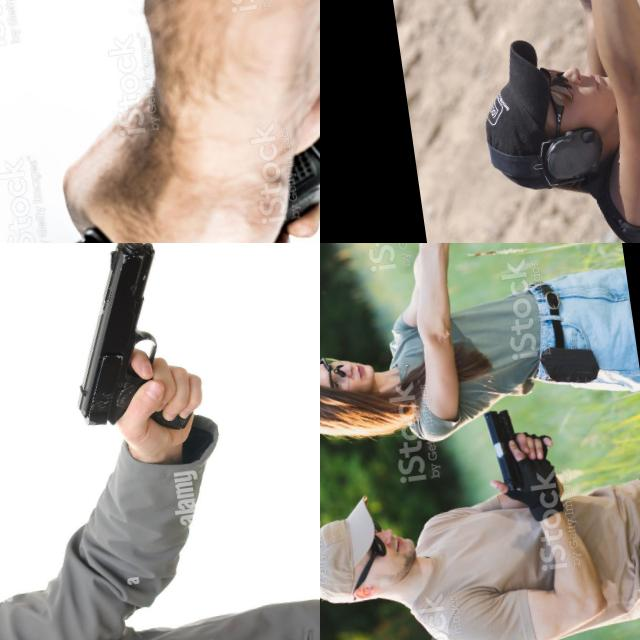handgun: (52, 243, 178, 431), (480, 402, 530, 500), (508, 0, 577, 66), (383, 243, 436, 281)
